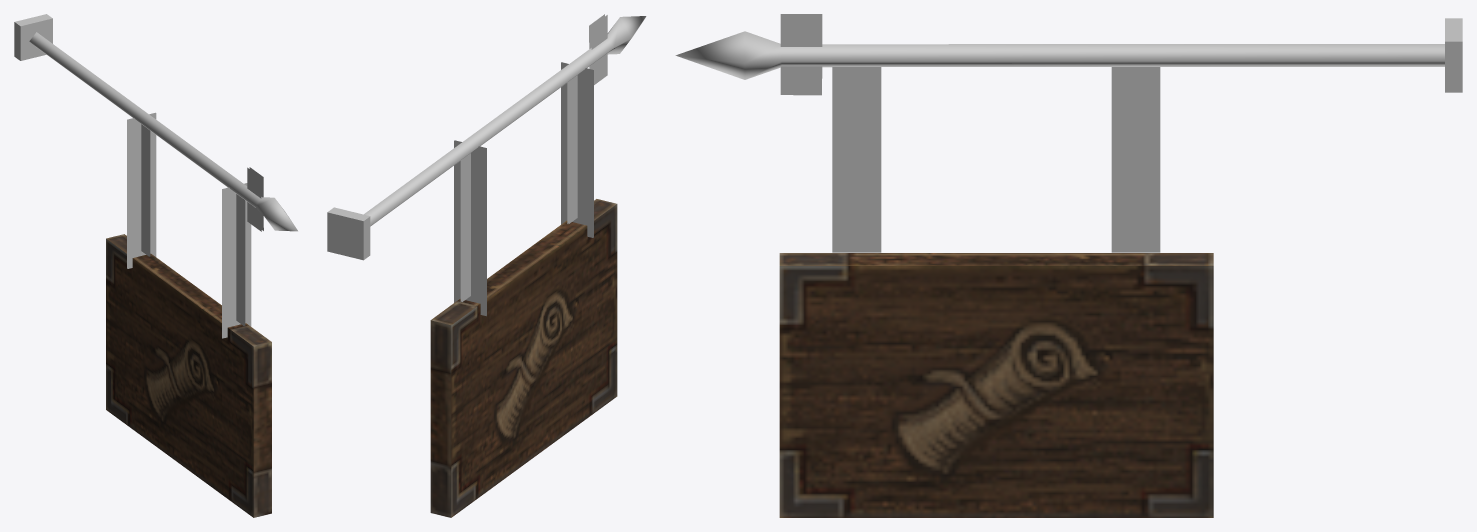
The model's file is Sign02_g.FBX.
3 views of the same model, side by side, from view 1: azimuth 30°, elevation 25°; view 2: azimuth 150°, elevation 25°; view 3: azimuth 270°, elevation 25° (orthographic). The views are drawn at different scales.
Parts seen in each view (by area): view 1: Sign02_g; view 2: Sign02_g; view 3: Sign02_g.
Part boxes in pixels (box(x1,y1,x2,y2)): Sign02_g: box(14, 14, 297, 517); Sign02_g: box(327, 14, 646, 517); Sign02_g: box(675, 14, 1462, 517).
Bounding box in the file's own units: 10.11 × 101 × 145.
